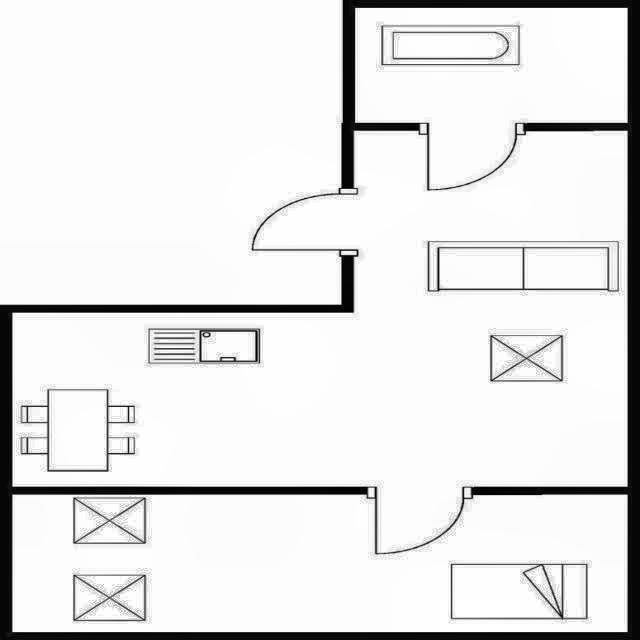room: (12, 130, 628, 487), (14, 494, 627, 631), (357, 9, 627, 122)
